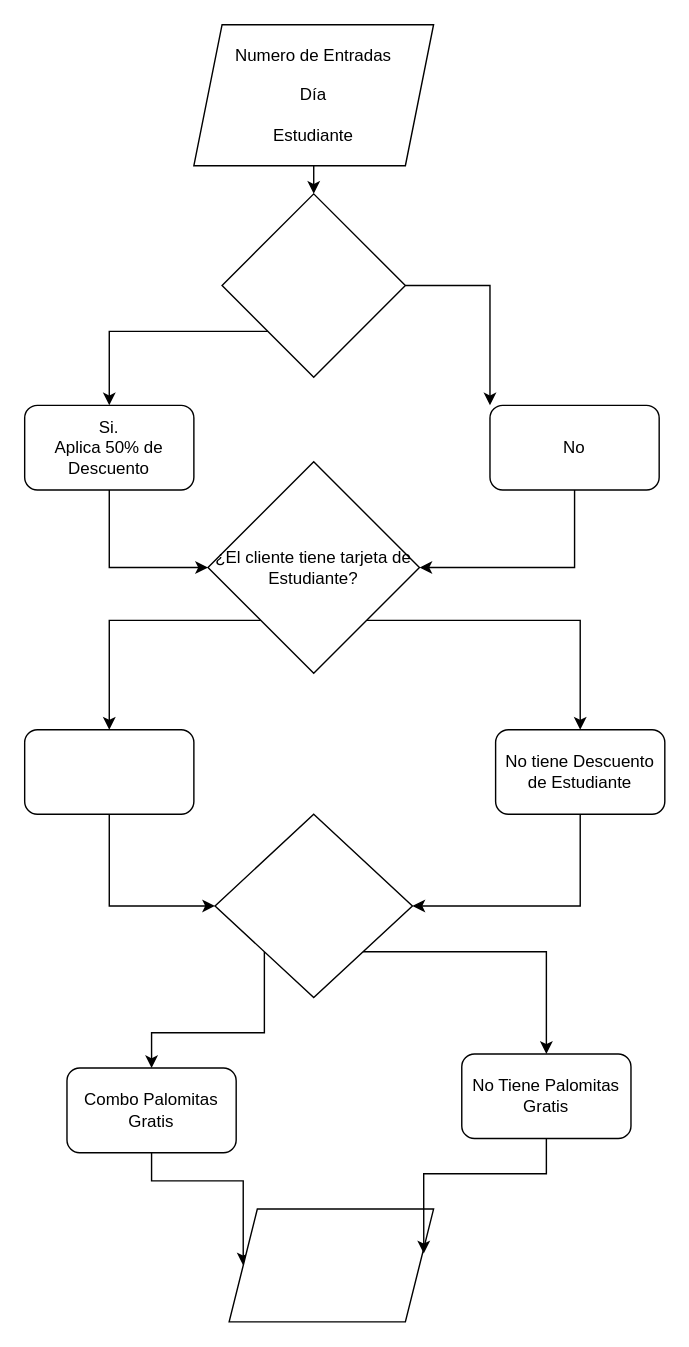
The diagram is 689 pixels wide and 1347 high, and some of its shapes have lost their labels. Each missing label, with the centre of its shape:
"Mostrar: Precio Descuento en % y € Combo Si/No" goes at (x=331, y=1265).
"Si. Aplica un 20% sumado al 50% (-70%)" goes at (x=108, y=771).
"¿Es miércoles?" goes at (x=313, y=284).
"¿Importe resultante >= 30€?" goes at (x=313, y=905).
